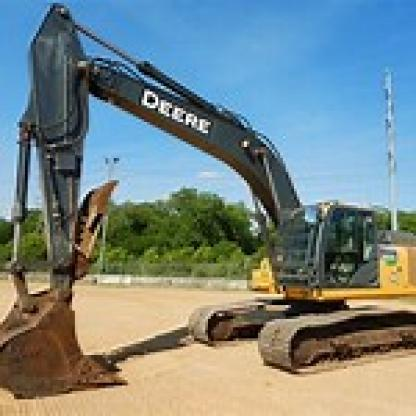excavator: (6, 0, 413, 413)
